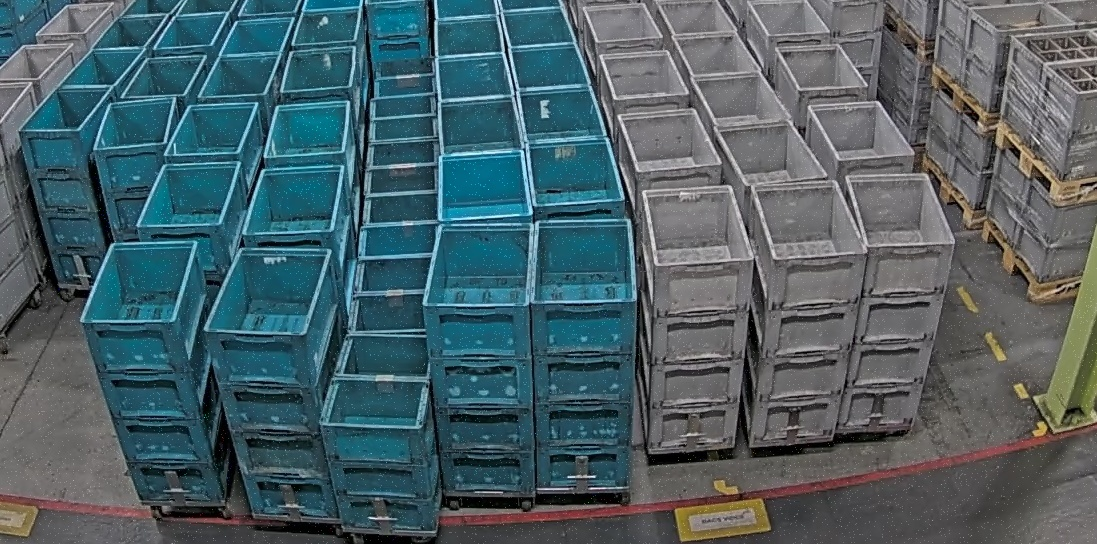4G: (741, 177, 868, 444), (834, 172, 957, 431), (639, 184, 756, 452)
B4: (78, 240, 233, 503), (203, 246, 345, 521), (419, 223, 538, 495), (527, 217, 640, 488), (91, 96, 181, 242)
B8: (317, 333, 444, 533)
